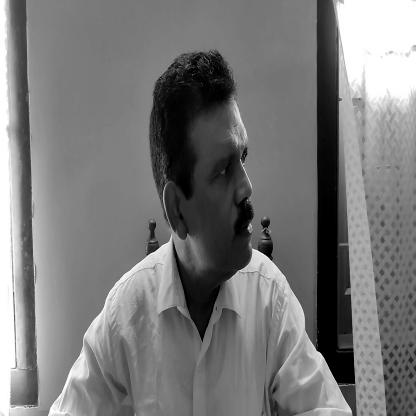Distracted: (144, 50, 266, 281)
